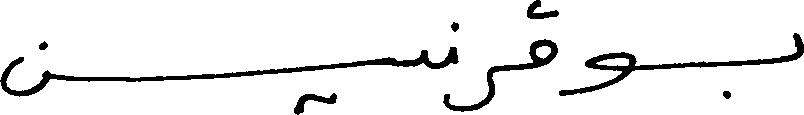X: (0, 36, 48, 101), (586, 47, 634, 96), (531, 0, 555, 73), (473, 62, 492, 114), (445, 17, 455, 114), (793, 28, 803, 64), (420, 45, 428, 71)
